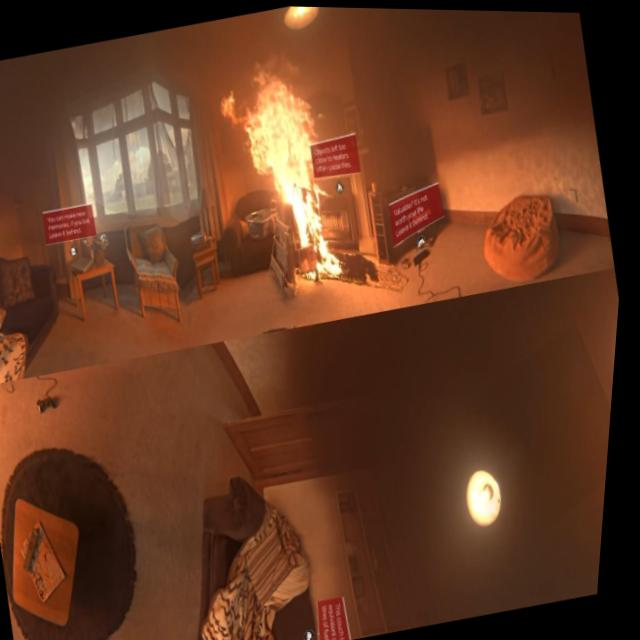fire: (203, 54, 365, 298)
